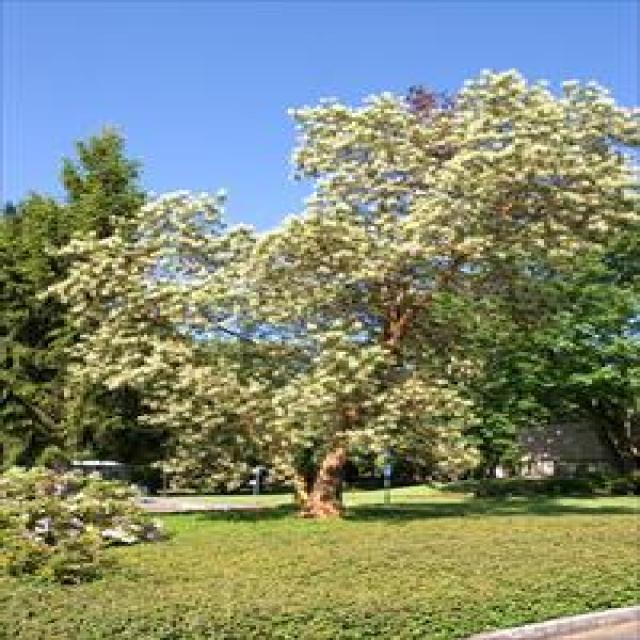Arbutus menziesii: (44, 65, 640, 519)
